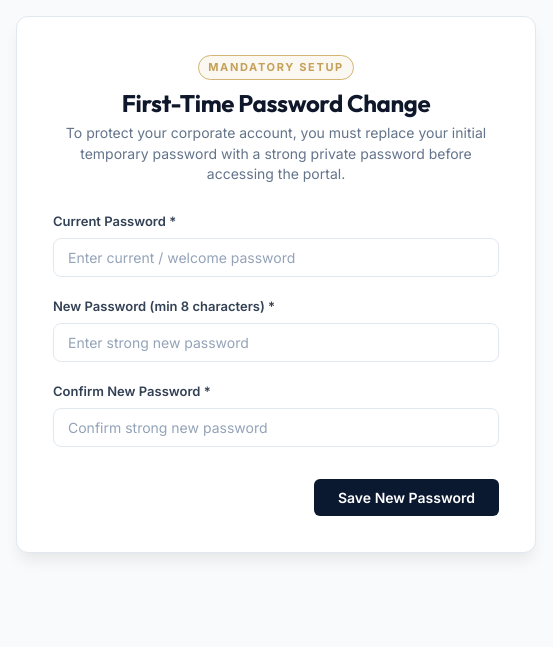
Test case: ChangePasswordPage Component (src/app/(portal)/settings/change-password/page.tsx) › validates password mismatch on client side
Type "oldpass123" into the password field labelled "Current Password *" at {"x": 276, "y": 258}, box left=53, top=238, right=499, bottom=277
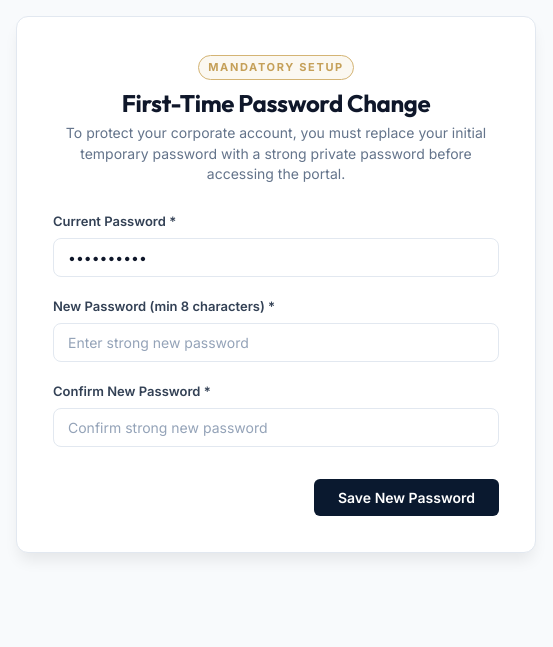
Type "password123" into the password field labelled "New Password (min 8 characters) *" at {"x": 276, "y": 342}, box left=53, top=323, right=499, bottom=362
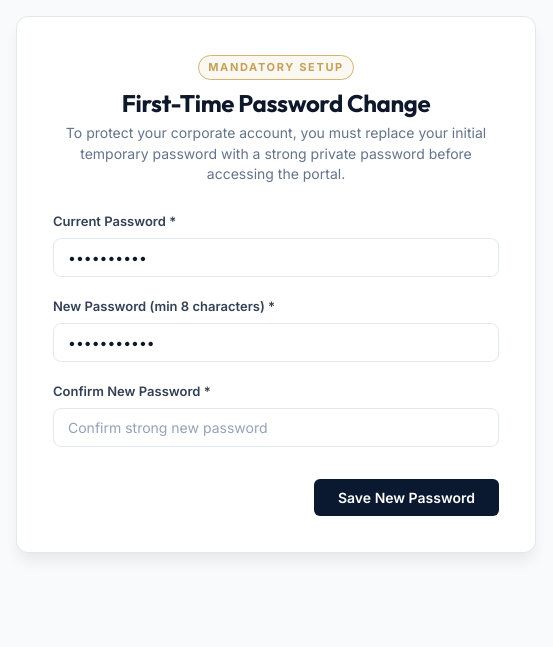
Type "mismatch456" into the password field labelled "Confirm New Password *" at {"x": 276, "y": 427}, box left=53, top=408, right=499, bottom=447
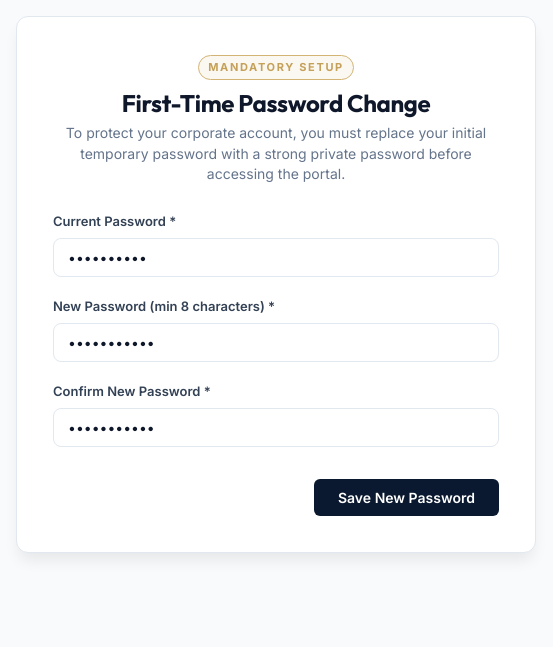
Click the button "Save New Password" at {"x": 406, "y": 497}, box left=314, top=479, right=499, bottom=516
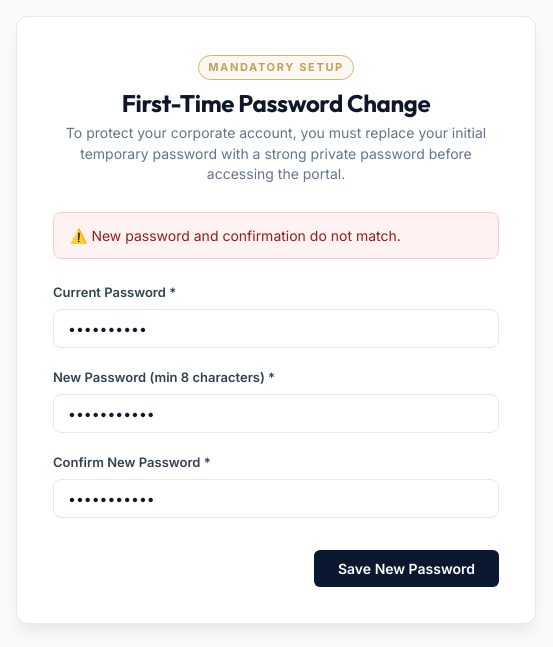
Result: the text "⚠️ New password and confirmation do not match." is shown at left=70, top=227, right=401, bottom=244
